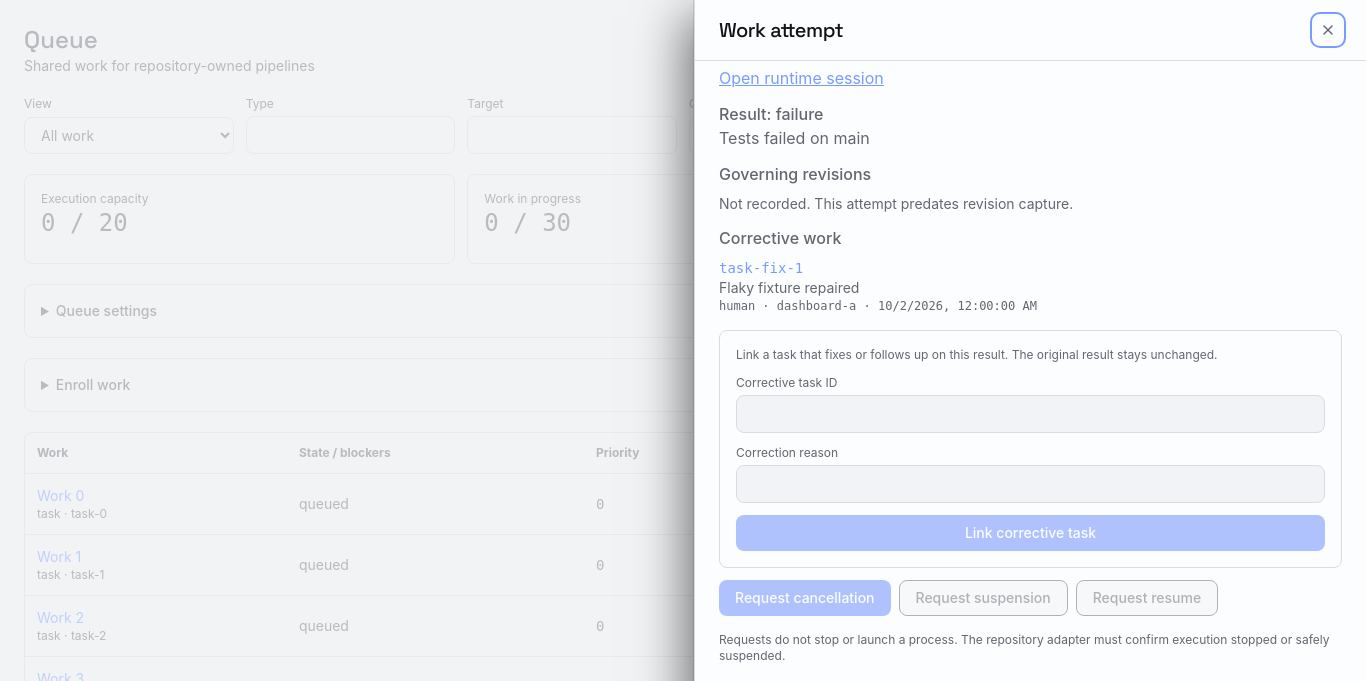
Test case: links corrective work to a finished attempt with a retry-safe key
(page scrolled)
Expected: the text "Flaky fixture repaired" is shown, 719,279 -> 859,296
Expected: the text "original result stays unchanged" is shown, 736,347 -> 1218,362
Type "task-fix-2" into the field labelled "Corrective task ID" at [1030, 414], box 736,395 -> 1325,433
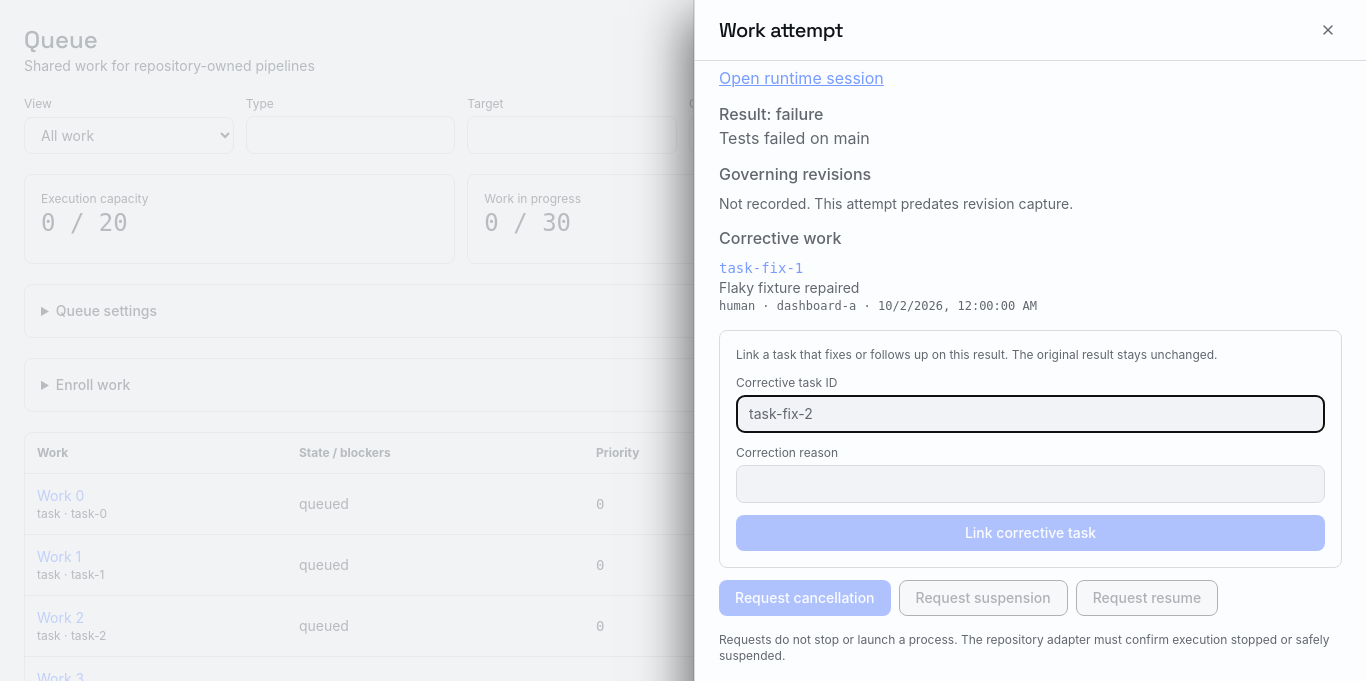
Type "Re-run with the repaired fixture" into the field labelled "Correction reason" at [1030, 484], box 736,465 -> 1325,503
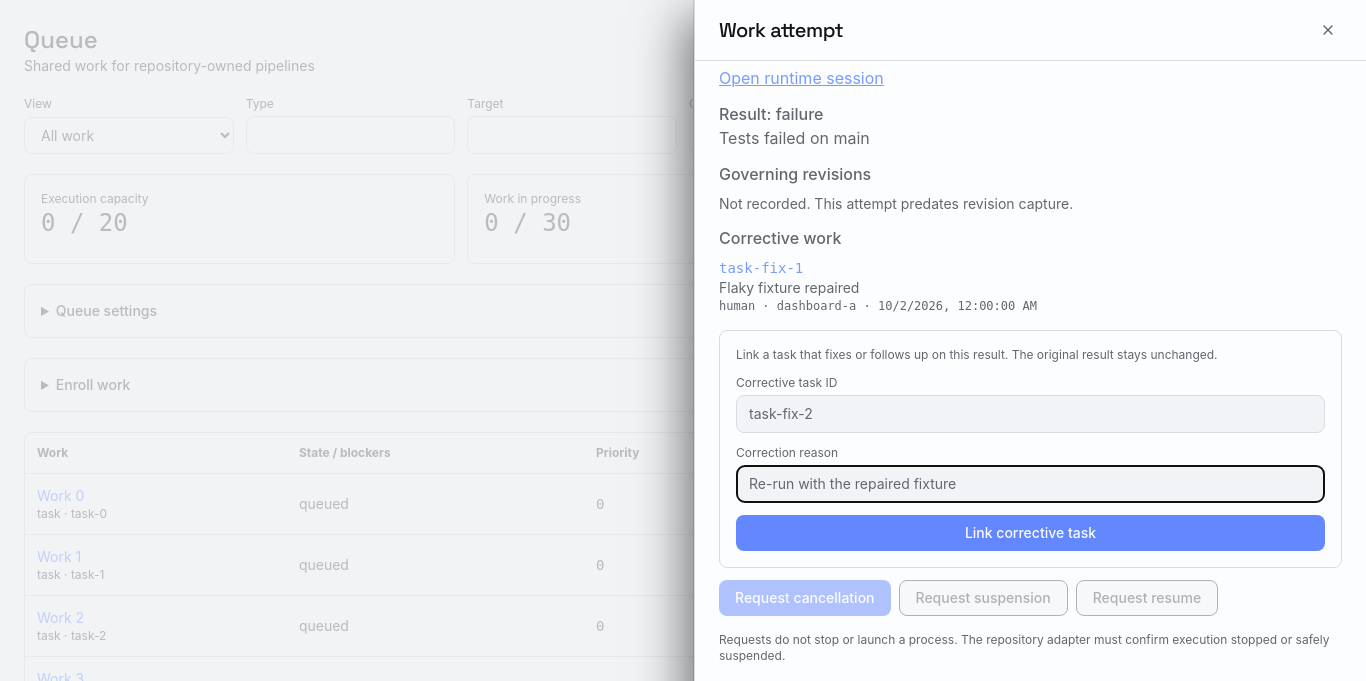
Click the button "Link corrective task" at [1030, 533], box 736,515 -> 1325,551
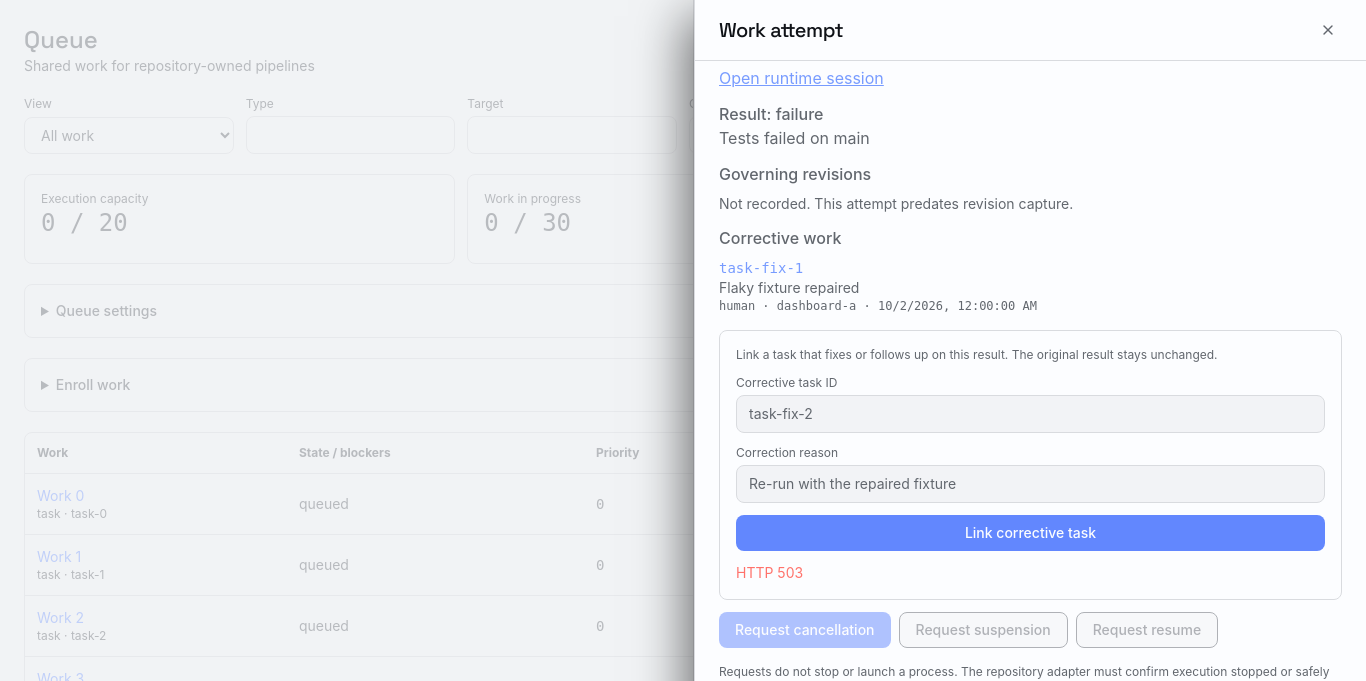
Expected: the message "HTTP 503" is shown, 736,564 -> 803,581
Click the button "Link corrective task" at [1030, 533], box 736,515 -> 1325,551
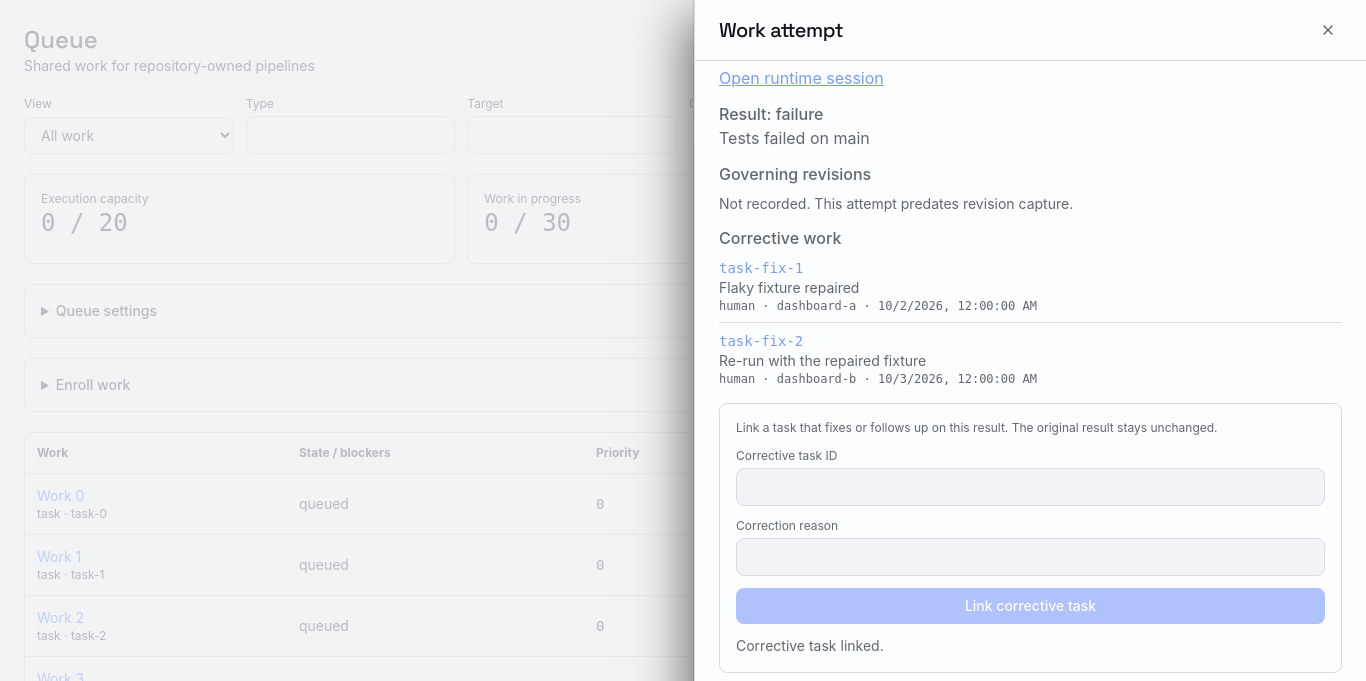
Expected: the text "Corrective task linked." is shown, 736,637 -> 884,654
Expected: the link "task-fix-2" is shown, 719,333 -> 803,349
Expected: the field labelled "Corrective task ID" is empty, 736,468 -> 1325,506
